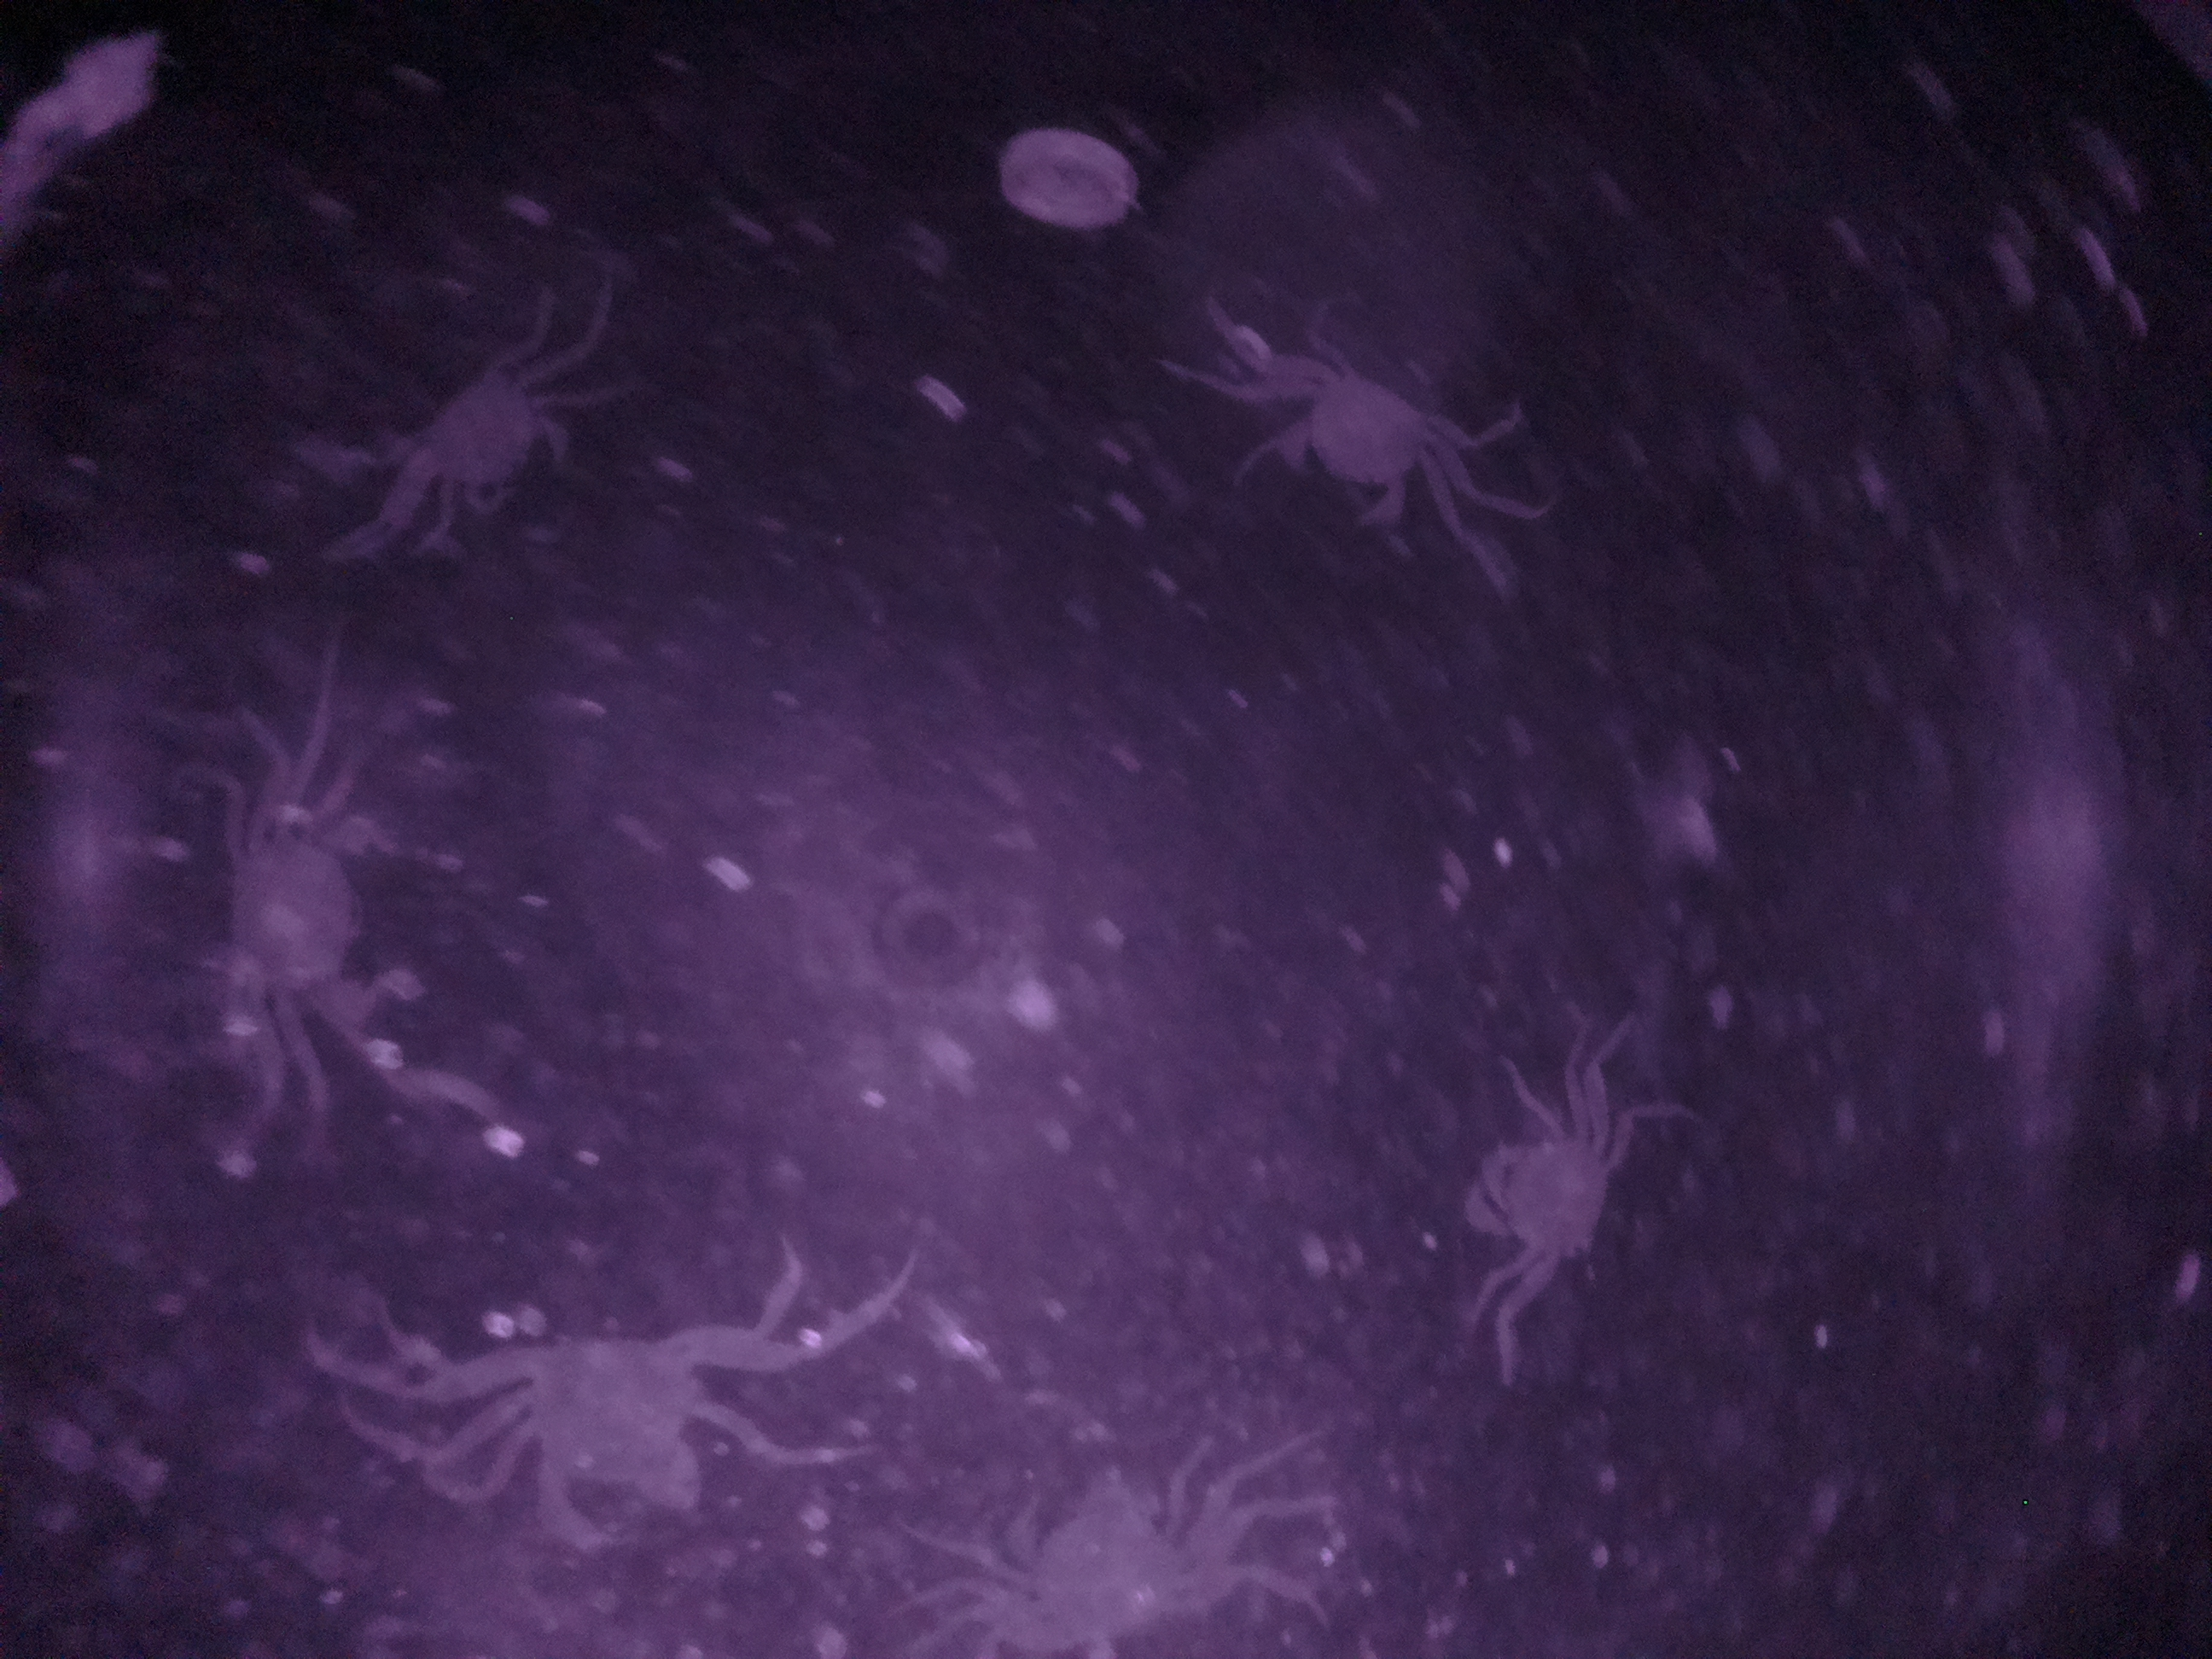Crab: (1237, 335, 1493, 554), (369, 343, 603, 552), (1432, 1082, 1639, 1310)
